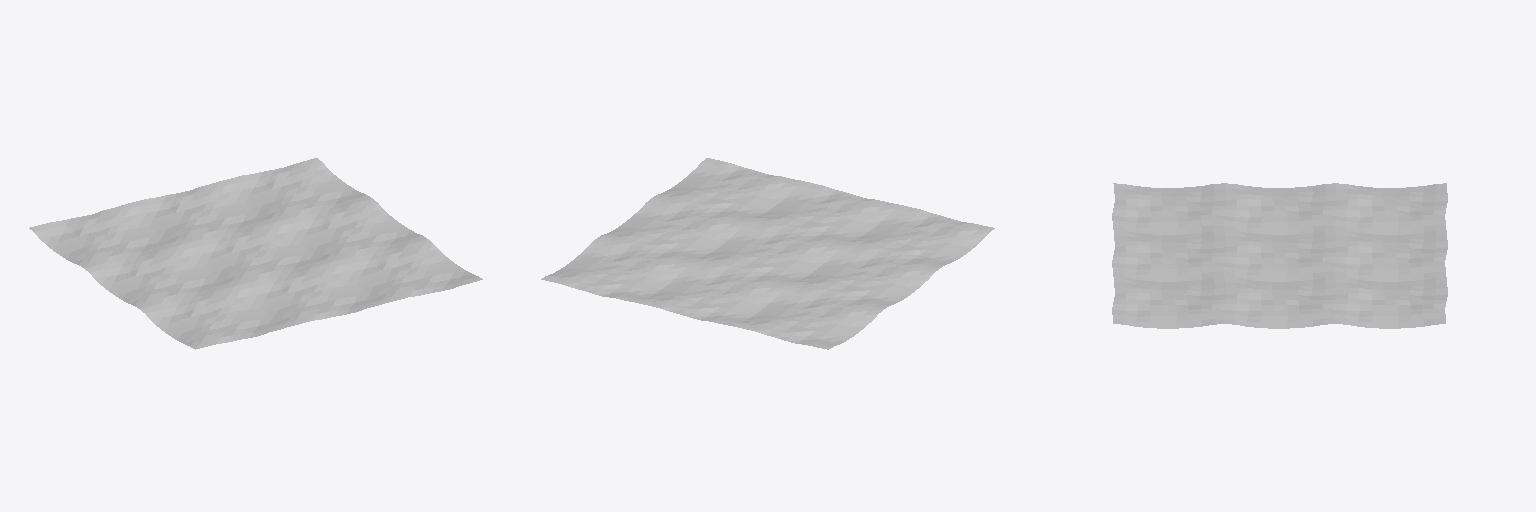
File: ocean_000031.obj
The picture shows the model from 3 angles: view 1: azimuth 30°, elevation 25°; view 2: azimuth 150°, elevation 25°; view 3: azimuth 270°, elevation 25°; orthographic projection.
Visible parts, largest first — view 1: Ocean_Plan.001; view 2: Ocean_Plan.001; view 3: Ocean_Plan.001.
Boxes of the visible parts, box(x1,y1,x2,y2) form: Ocean_Plan.001: box(29, 158, 482, 349); Ocean_Plan.001: box(541, 158, 994, 349); Ocean_Plan.001: box(1112, 183, 1447, 328).
Bounding box in the file's own units: 109081 × 1669 × 109834.